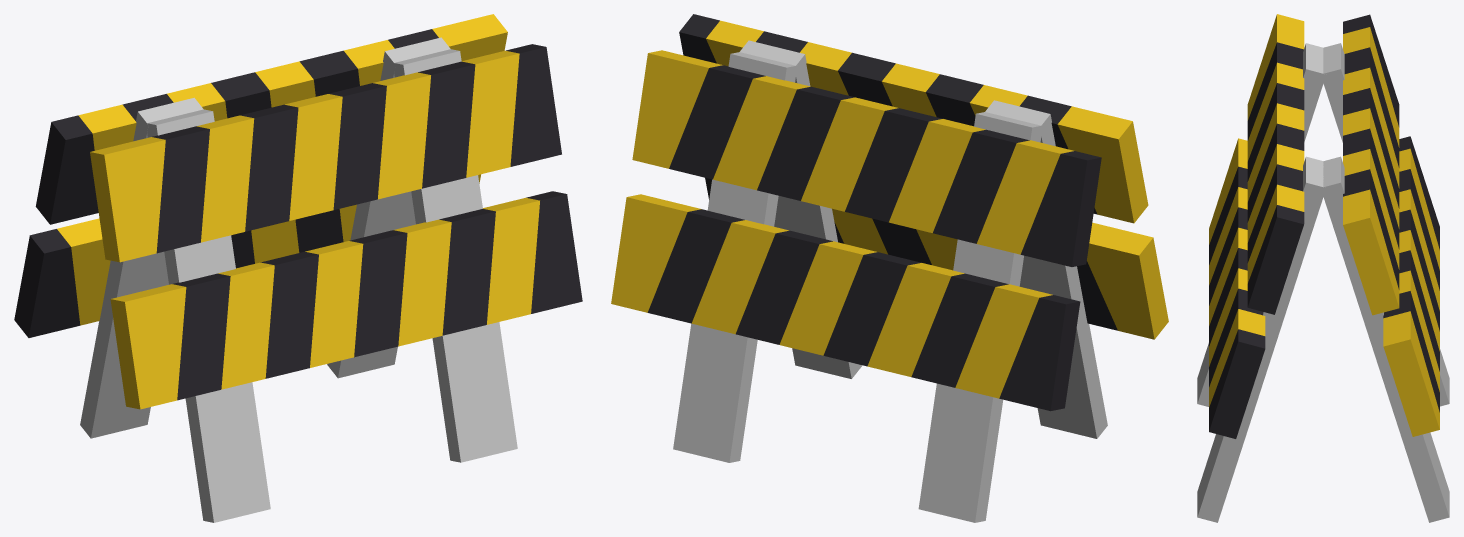
The model's file is obstacle_2.fbx.
3 renders of one model, left to right at view 1: azimuth 30°, elevation 25°; view 2: azimuth 150°, elevation 25°; view 3: azimuth 270°, elevation 25°, orthographic. The views are drawn at different scales.
Visible parts, largest first — view 1: 立方体_1; view 2: 立方体_1; view 3: 立方体_1.
Boxes of the visible parts, x1,y1,x2,y2 form: 立方体_1: (14,14,582,522); 立方体_1: (611,14,1168,522); 立方体_1: (1197,14,1449,522).
Bounding box in the file's own units: 350 × 271 × 182.
